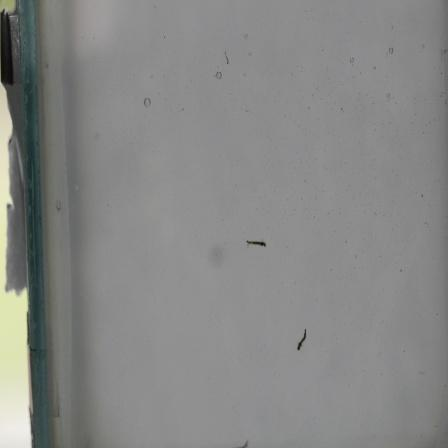Jentik-Nyamuk: (293, 327, 311, 353), (243, 235, 270, 250)
